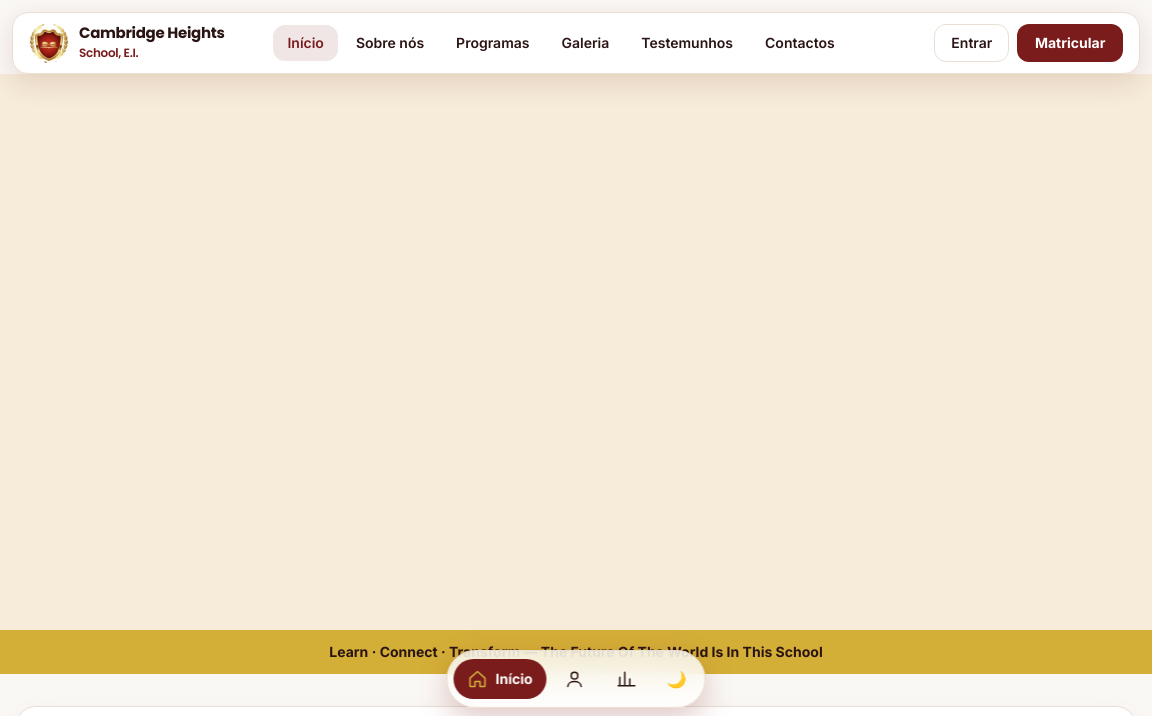
it: menu do topo tem Entrar e Matricular e abre a área do pai
Check: the link "Matricular" is shown, box [1017,24,1123,62]
What coordinates should you click on to do the following:
click the button "Entrar"
I would click on:
 (972, 43)
Its box is [934,24,1009,62].
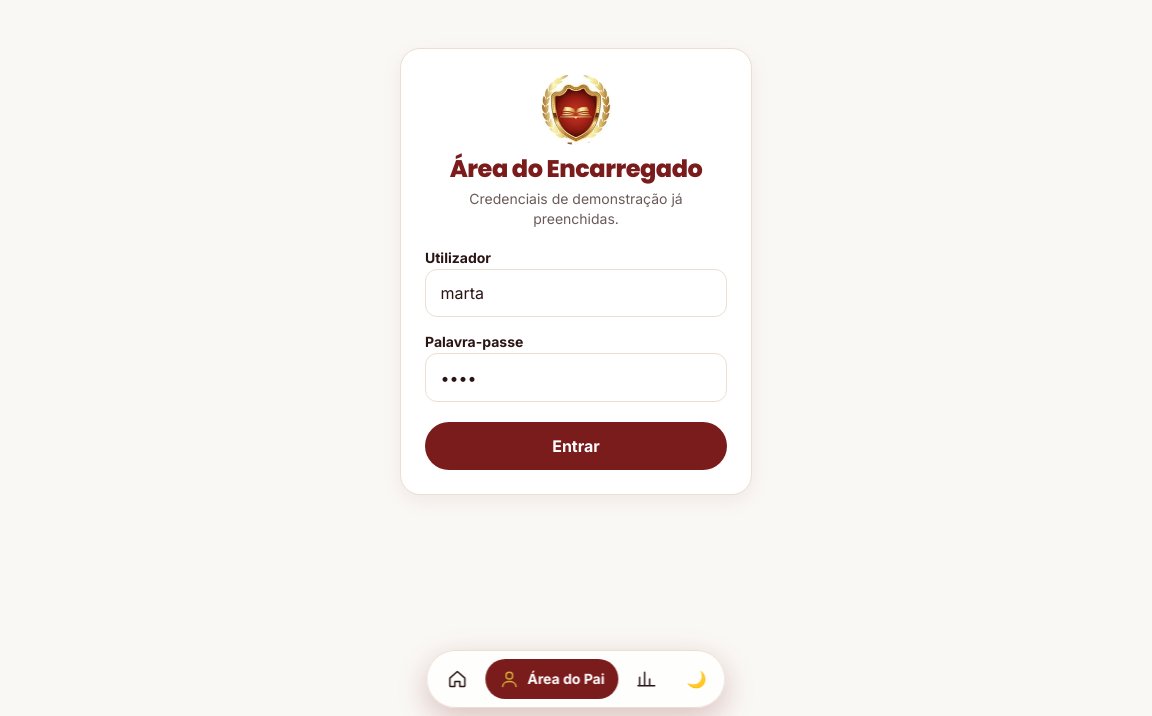
Check: the heading "Área do Encarregado" is shown, box [450,152,702,185]
